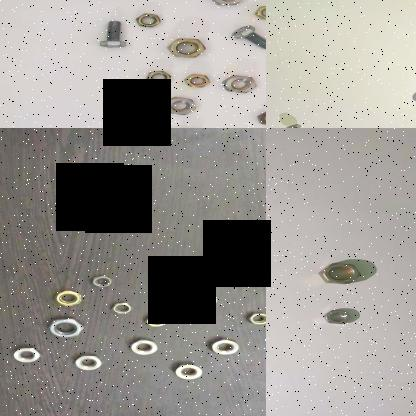Bolts: (227, 24, 266, 51), (94, 20, 128, 50), (277, 121, 321, 128)
NUTS: (325, 260, 370, 286), (165, 36, 209, 58), (46, 316, 86, 339), (164, 97, 198, 119), (131, 97, 163, 120), (222, 74, 258, 94), (319, 304, 351, 326), (8, 344, 42, 364), (205, 338, 240, 357), (73, 352, 103, 372), (140, 69, 174, 86), (126, 339, 162, 355), (172, 363, 202, 382), (50, 290, 84, 306), (158, 272, 189, 287), (132, 13, 162, 28), (88, 274, 113, 290), (183, 74, 211, 88), (194, 291, 216, 307), (246, 311, 266, 326), (207, 0, 247, 6), (254, 3, 266, 23), (251, 110, 266, 126), (232, 271, 252, 282)
